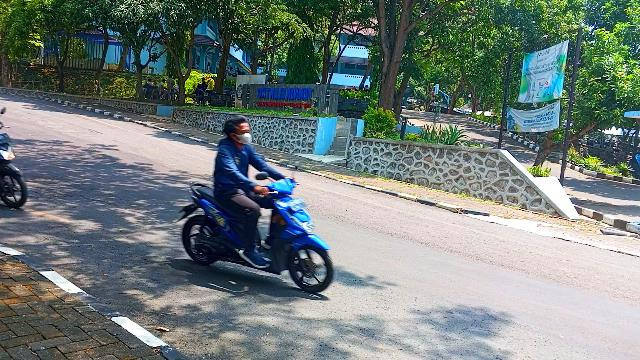motor: (181, 180, 335, 293)
non-helm: (226, 117, 253, 146)
